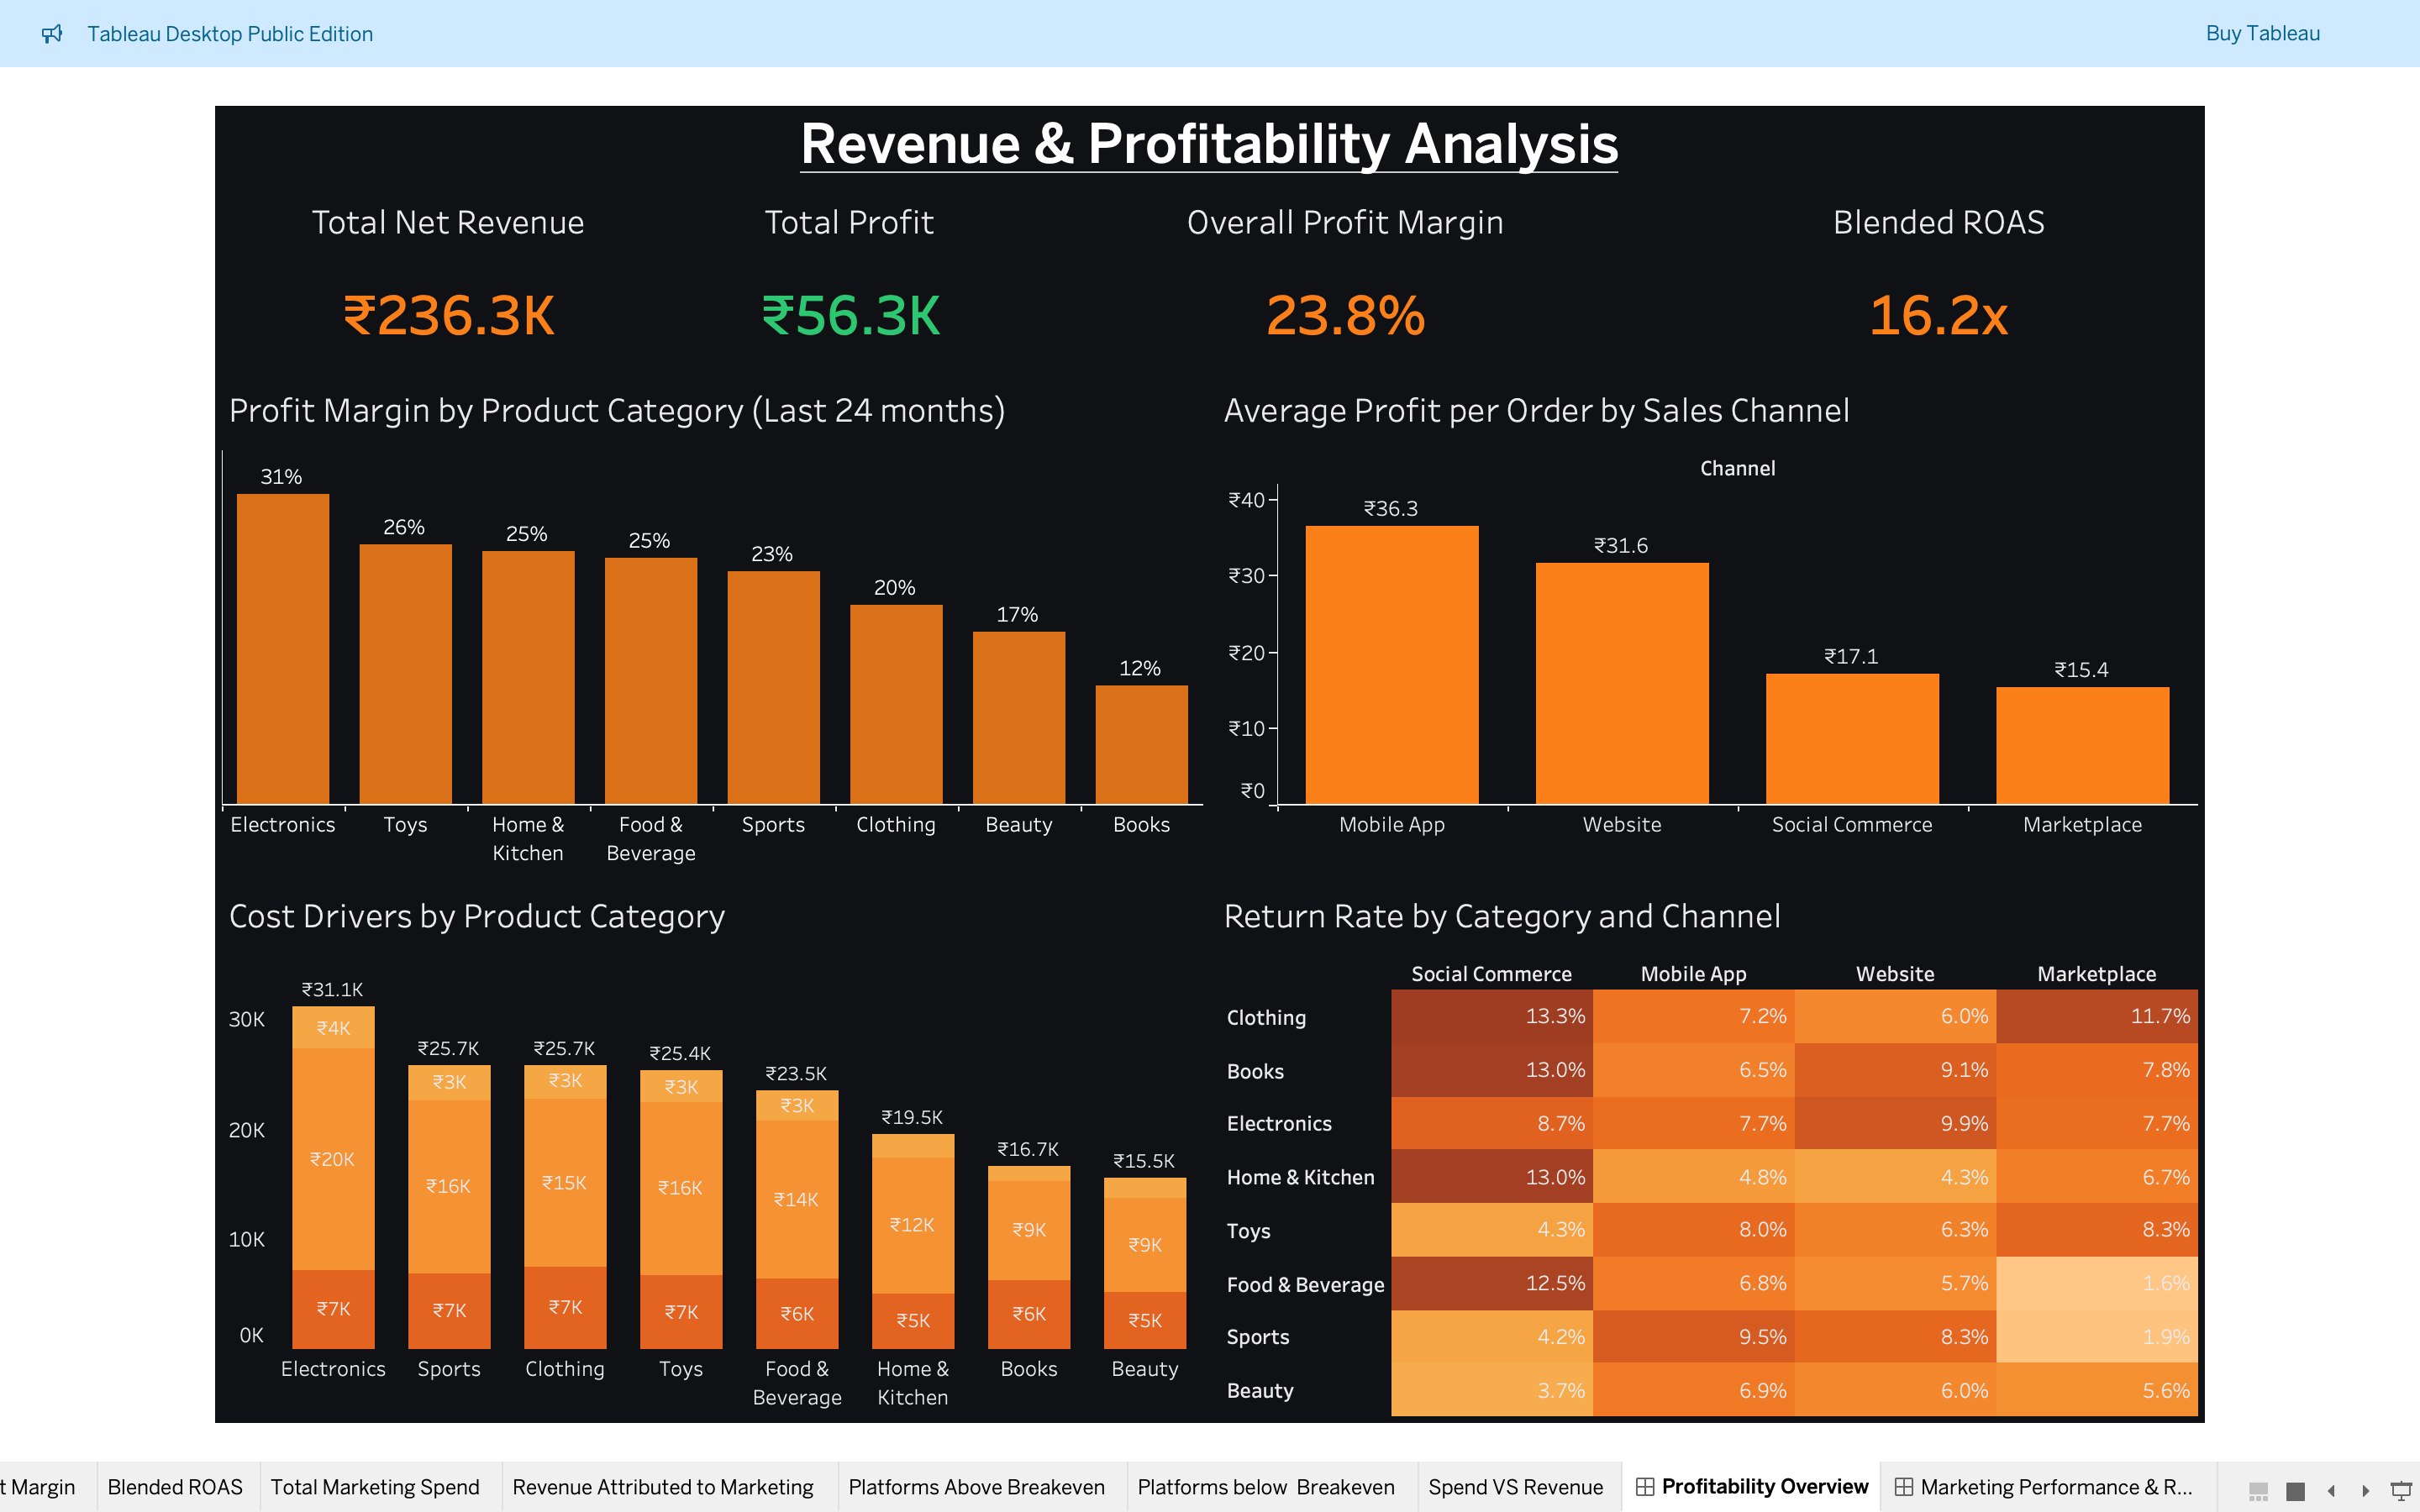

The dashboard page shown, as its layout file describes it:
{"tool":"tableau","page":{"name":"Profitability Overview","canvas":[1200,800],"ordinal":1},"visuals":[{"type":"title","box":[8,8,1184,47]},{"type":"worksheet","title":"Total Net Revenue","mark":"Text","box":[8,55,278,112]},{"type":"worksheet","title":"Total Profit","mark":"Text","box":[286,55,200,112]},{"type":"worksheet","title":"Overall Profit Margin","mark":"Automatic","box":[486,55,390,112]},{"type":"worksheet","title":"Blended ROAS","mark":"Automatic","box":[876,55,316,112]},{"type":"worksheet","title":"Category Profit Margin","mark":"Automatic","rows":["Calculation_1522387275481088"],"cols":["primary_category"],"box":[8,167,592,301]},{"type":"worksheet","title":"Profit per Order by Channel","mark":"Automatic","rows":["profit"],"cols":["channel"],"box":[600,167,592,301]},{"type":"worksheet","title":"Category Cost Breakdown","mark":"Bar","rows":["Calculation_1522387278168066"],"cols":["primary_category"],"box":[8,468,592,324]},{"type":"worksheet","title":"Return Rate by Category and Channel","mark":"Automatic","rows":["primary_category"],"cols":["channel"],"box":[600,468,592,324]}]}

Visuals, with their boxes on the page's 1200x800 design canvas (x1, y1, x2, y2). These are canvas units, not pixel positions in the 2420x1512 screenshot, which may show the page scaled, cropped or inside an application window:
title: select_region(8, 8, 1192, 55)
"Total Net Revenue" worksheet (Text marks): select_region(8, 55, 286, 167)
"Total Profit" worksheet (Text marks): select_region(286, 55, 486, 167)
"Overall Profit Margin" worksheet: select_region(486, 55, 876, 167)
"Blended ROAS" worksheet: select_region(876, 55, 1192, 167)
"Category Profit Margin" worksheet: select_region(8, 167, 600, 468)
"Profit per Order by Channel" worksheet: select_region(600, 167, 1192, 468)
"Category Cost Breakdown" worksheet (Bar marks): select_region(8, 468, 600, 792)
"Return Rate by Category and Channel" worksheet: select_region(600, 468, 1192, 792)
